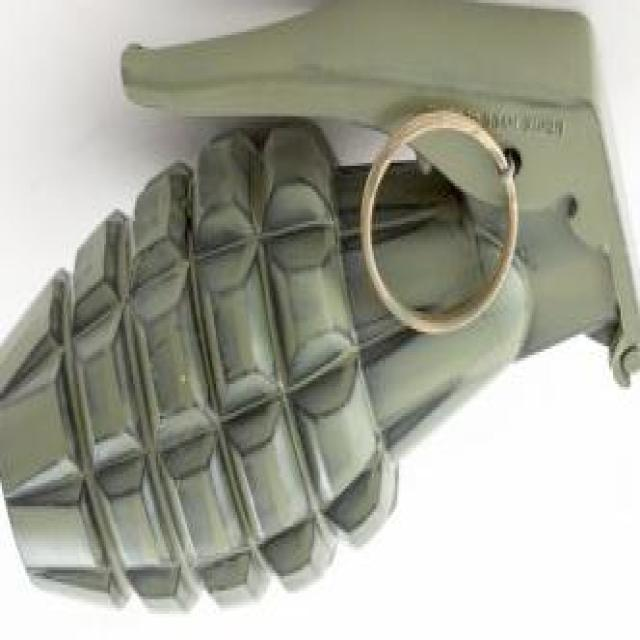grenade: (1, 4, 639, 615)
